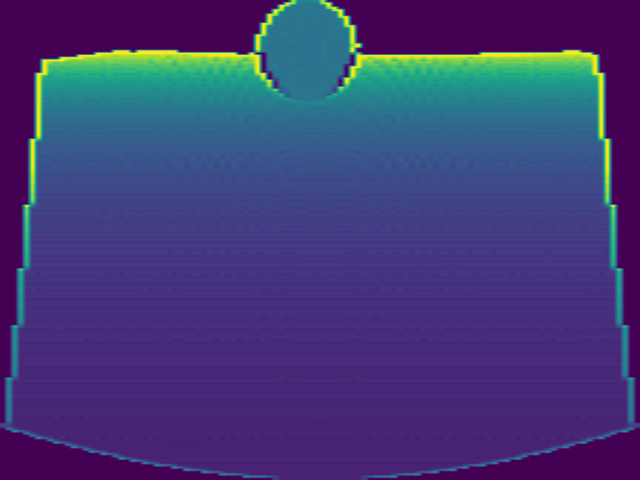sphere: (252, 1, 357, 103)
